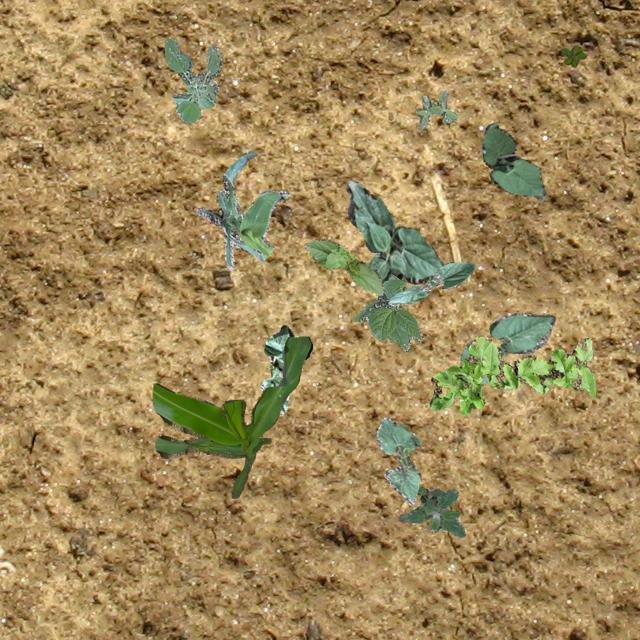crop: (152, 336, 312, 497), (195, 150, 288, 268), (346, 180, 442, 282), (458, 312, 554, 384), (352, 252, 420, 351), (480, 122, 546, 200), (302, 238, 383, 294), (374, 416, 420, 504), (388, 260, 473, 304), (260, 324, 292, 414)
weed: (428, 336, 594, 414), (164, 36, 222, 121), (398, 486, 464, 536), (414, 90, 458, 128), (560, 44, 586, 66)
